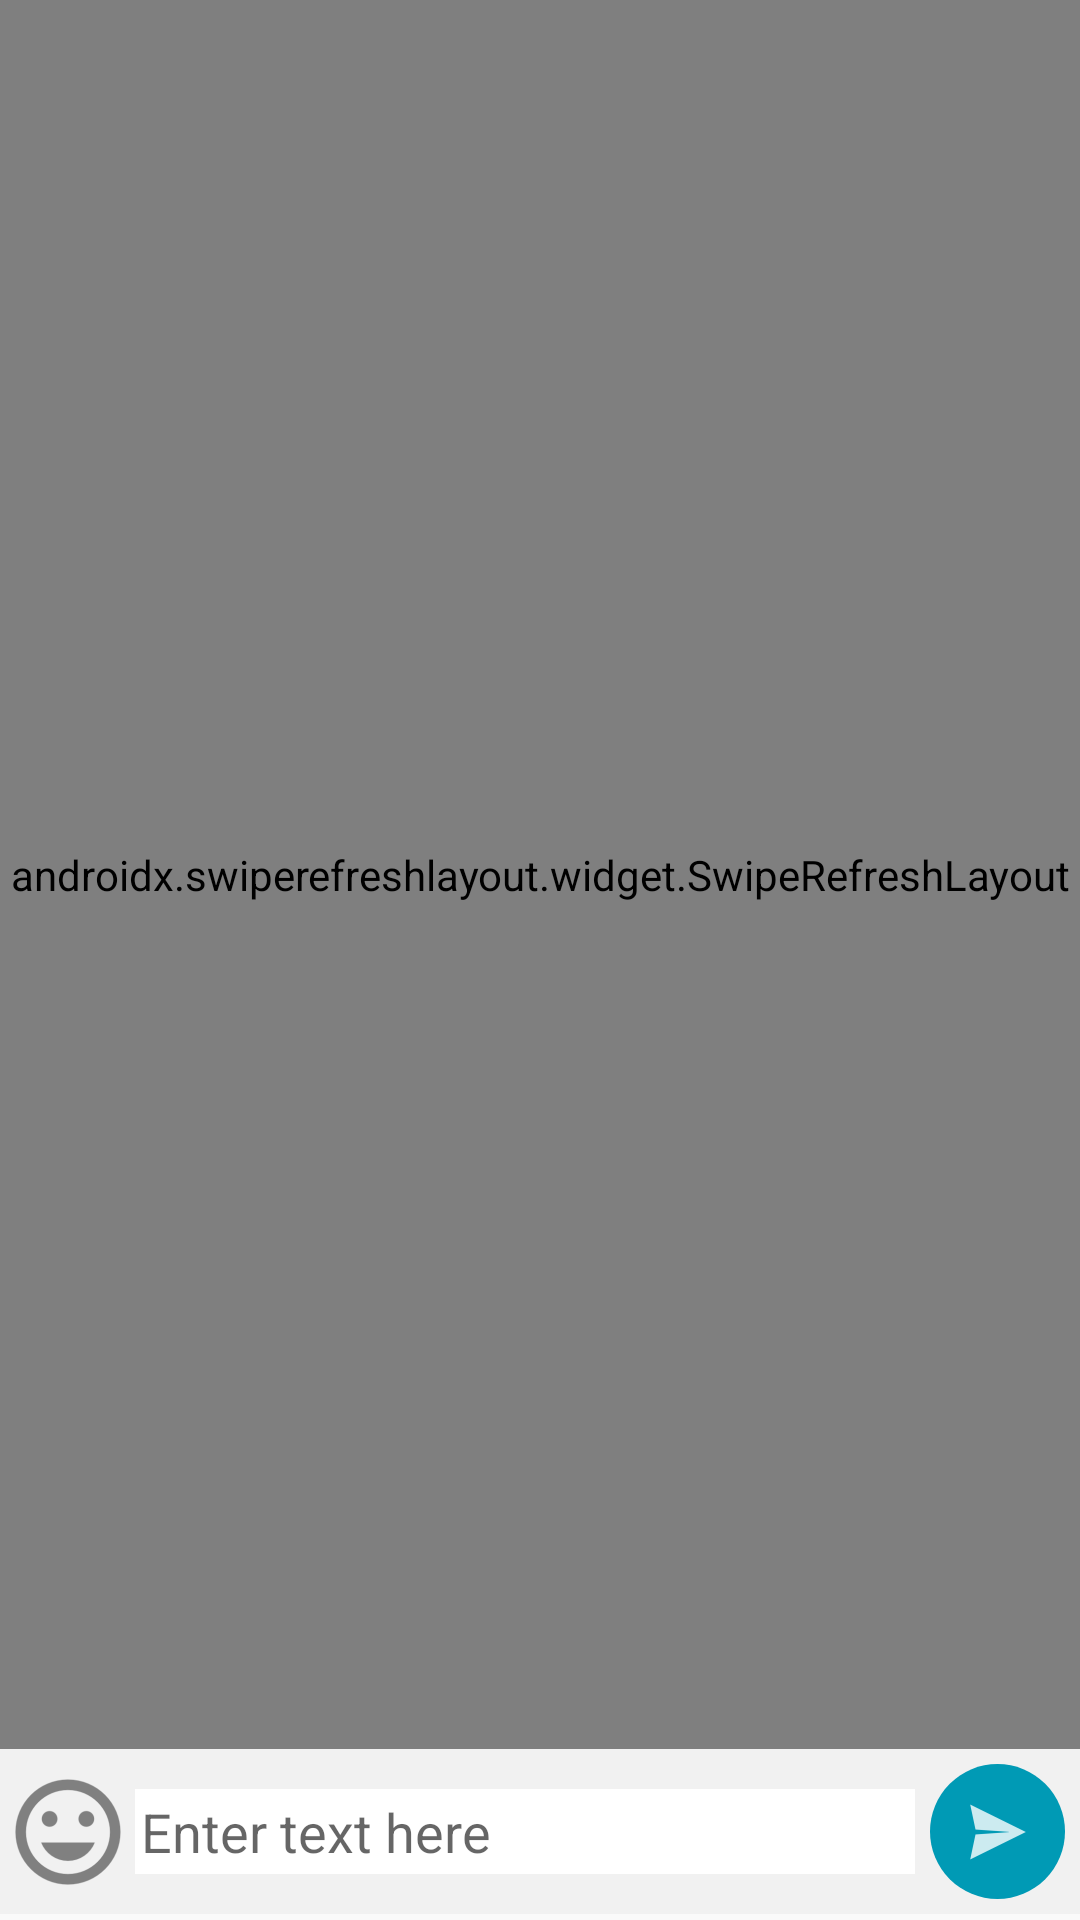

Icons on this 1080px×1920px Android screen, each with the point to tap as [x,y]:
send: [997,1831]
stickers menu: [68,1832]
